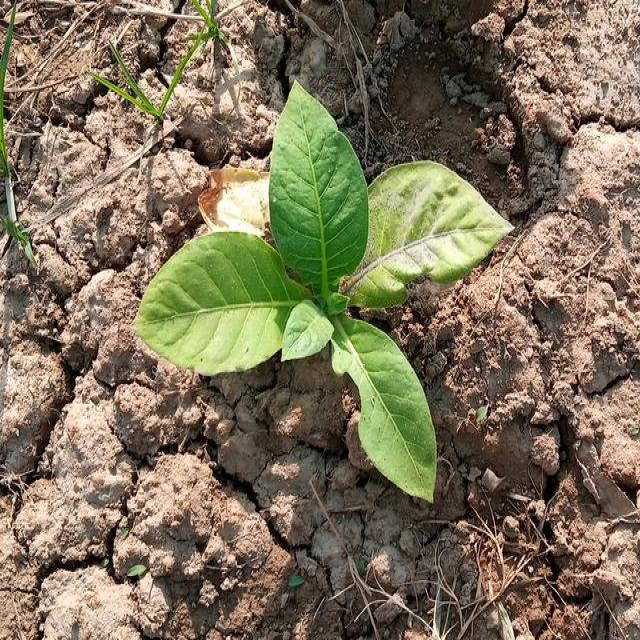crop: (154, 90, 496, 488)
